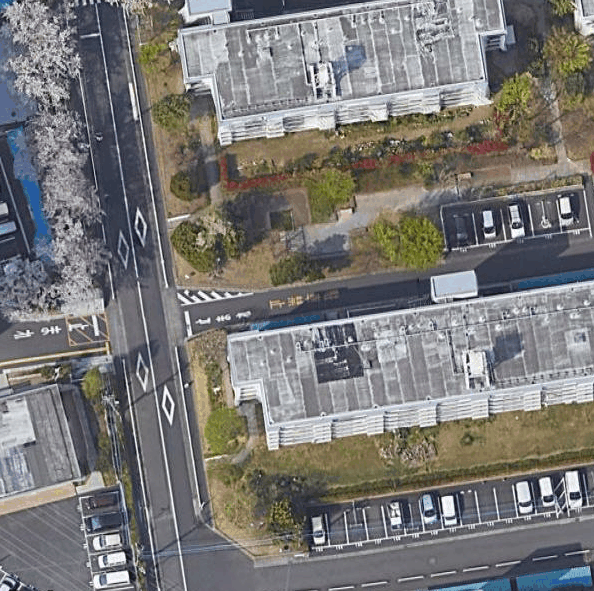flatroof: (221, 276, 593, 431), (181, 2, 501, 122)
